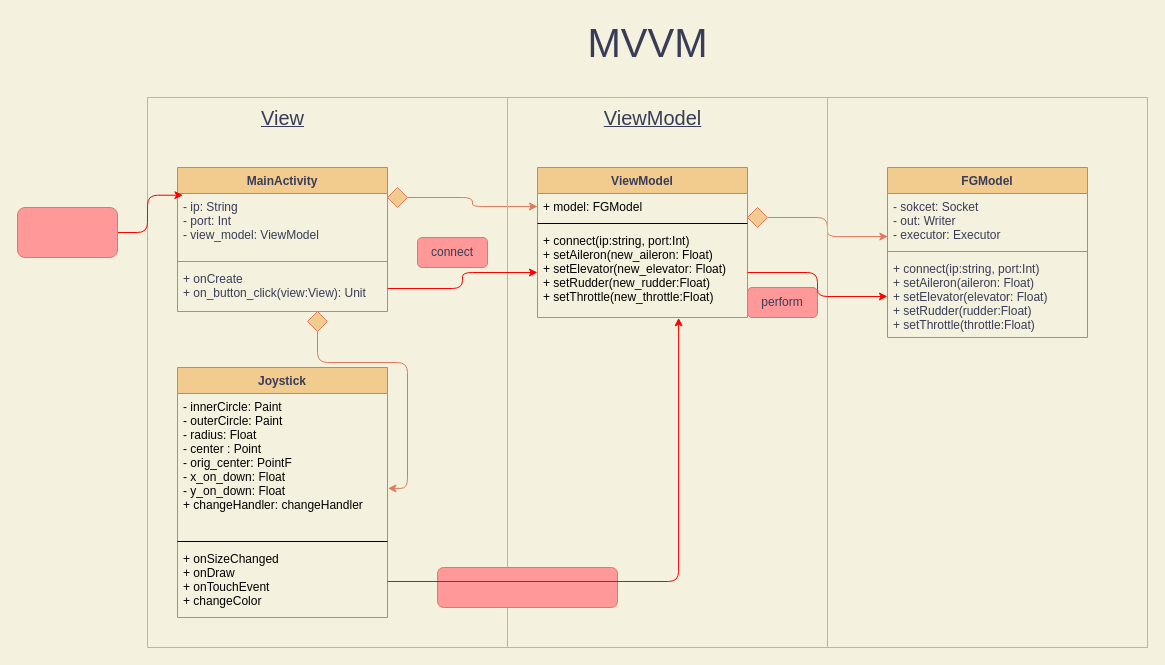
Some shapes in this 1165 by 665 pixel diagram are drawn without their labels. The shapes that lost their labels are listed below. From the top down, each one's centre as x and y in pixels, then its label:
At (67,232): "user action".
At (987,372): "Model".
At (527,587): "control airplane".
